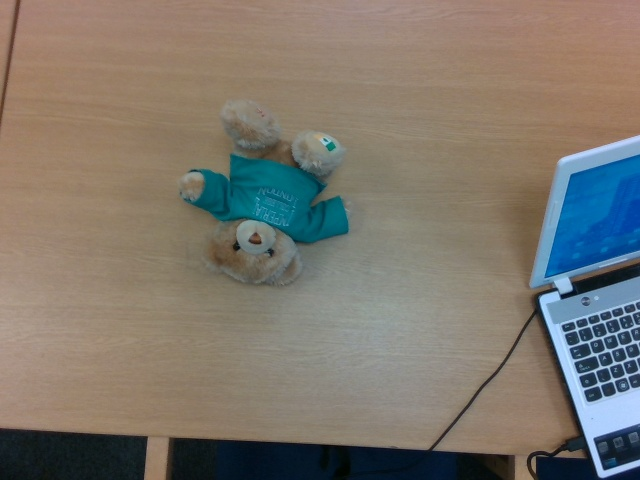teddy: (178, 98, 351, 286)
